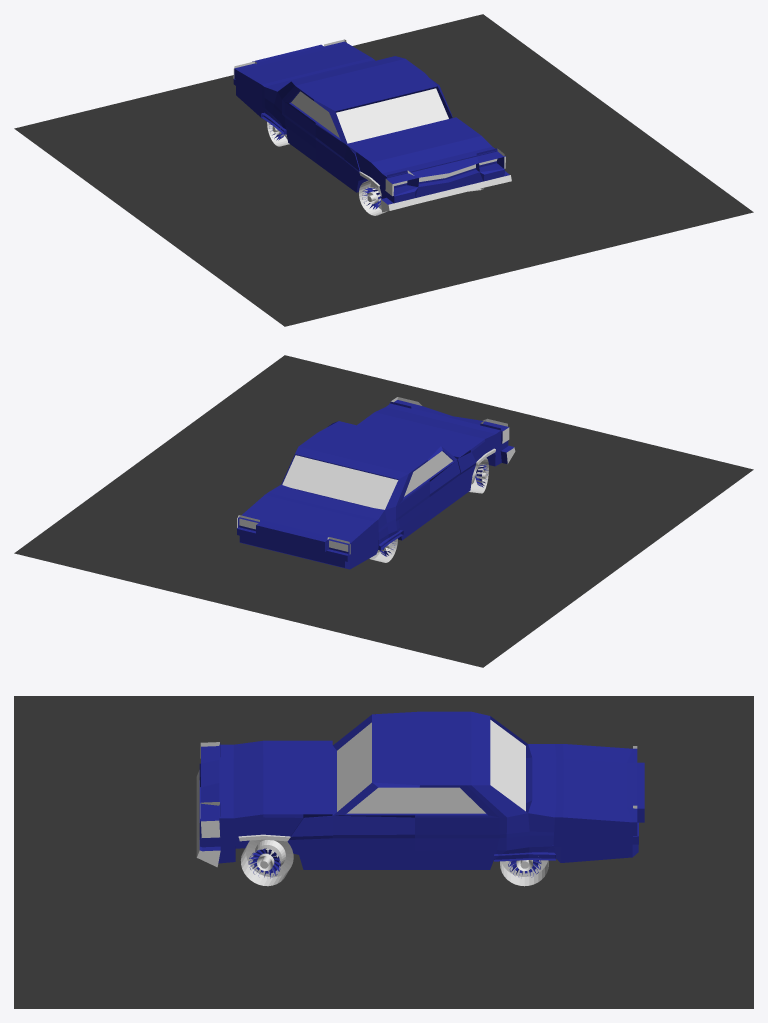
The model's file is car.glb.
3 views of the same model, one above another, from view 1: azimuth 30°, elevation 25°; view 2: azimuth 150°, elevation 25°; view 3: azimuth 270°, elevation 25° (orthographic). The views are drawn at different scales.
Visible parts, largest first — view 1: Plane, Cube; view 2: Plane, Cube; view 3: Plane, Cube.
Part boxes in pixels (left/top/right/bottom): Plane: left=14, top=14, right=753, bottom=326; Cube: left=233, top=39, right=511, bottom=215; Plane: left=14, top=355, right=753, bottom=667; Cube: left=237, top=397, right=515, bottom=569; Plane: left=14, top=696, right=753, bottom=1008; Cube: left=196, top=711, right=644, bottom=886.
Bounding box in the file's own units: 8.39 × 1.29 × 8.39.
